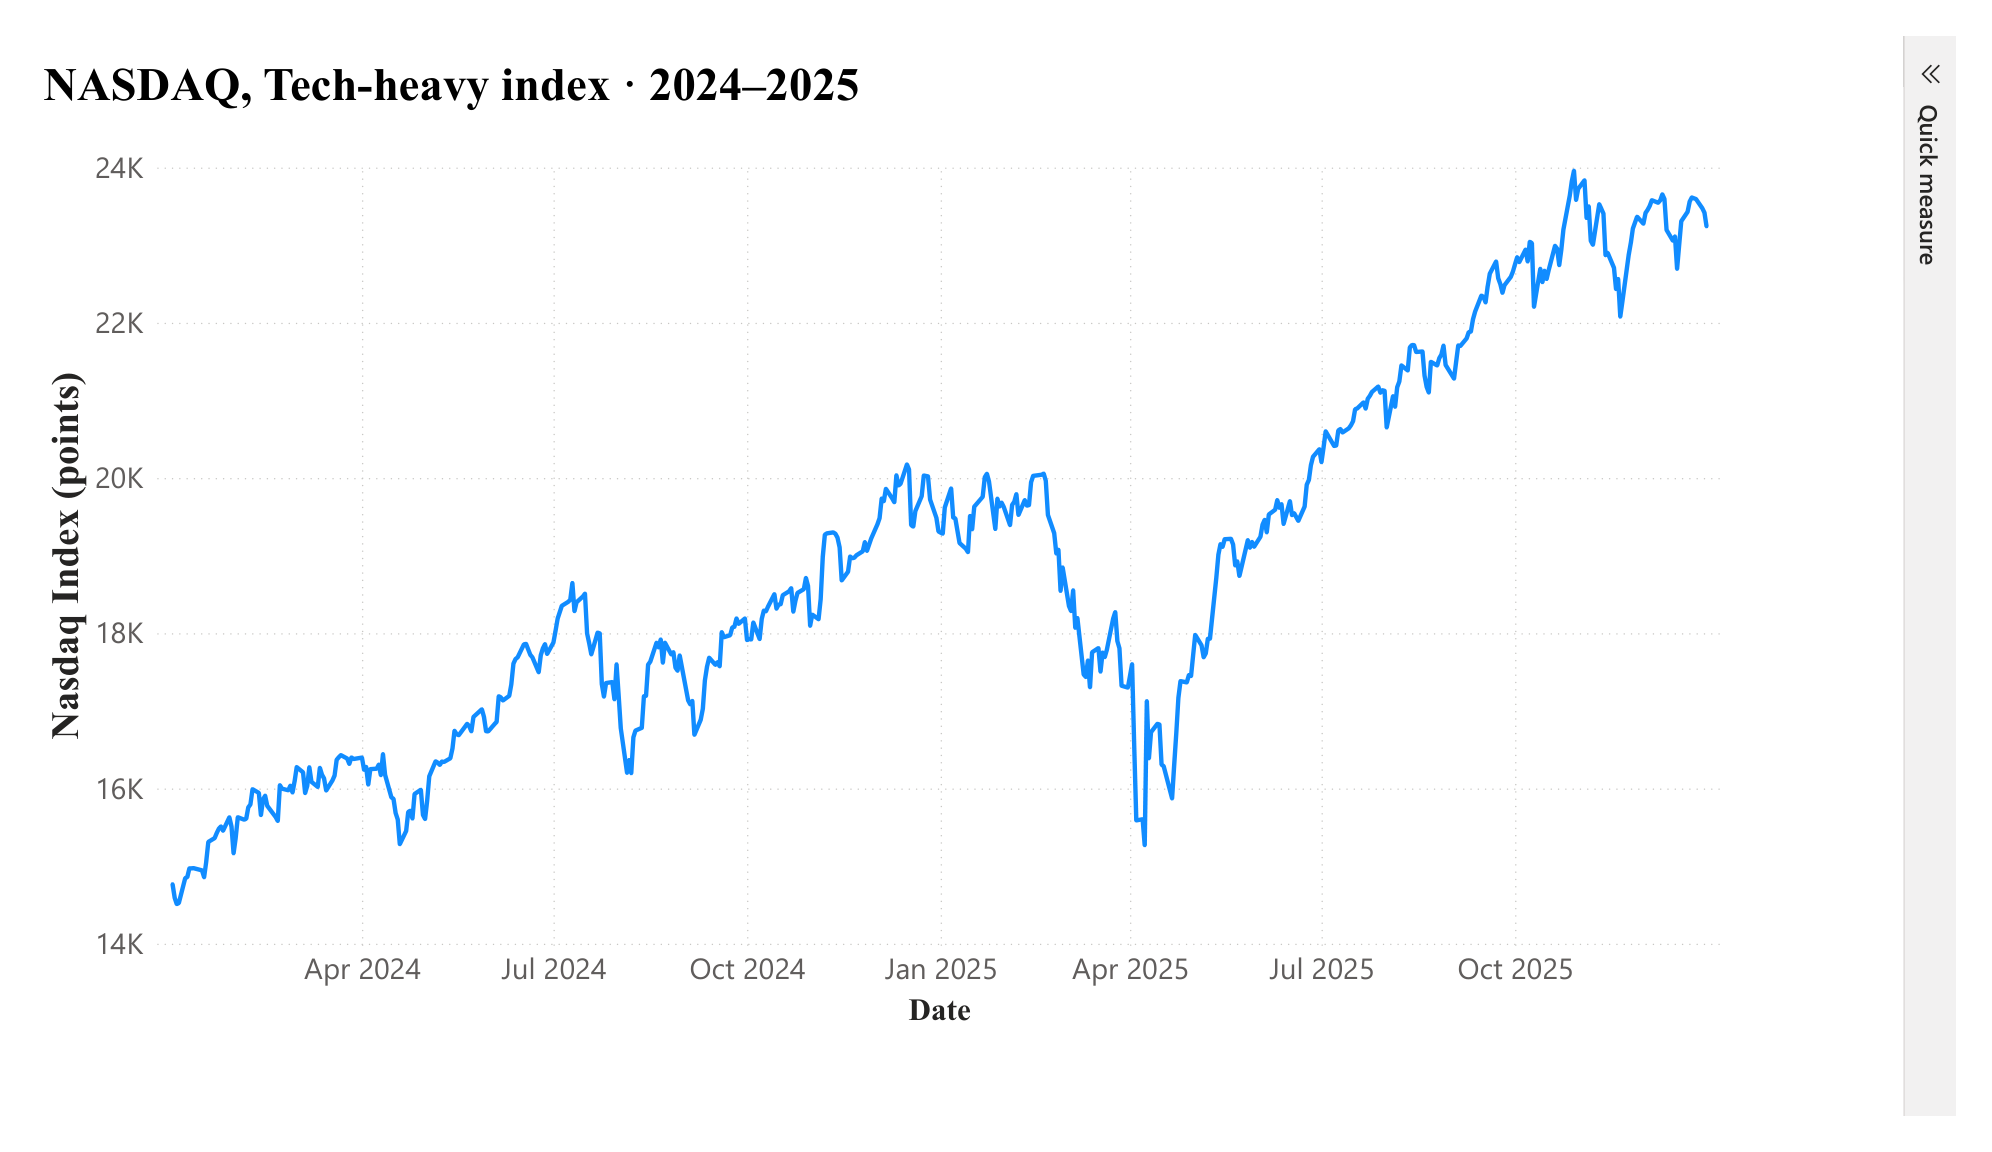

What the dashboard file says about the page in this screenshot:
{"tool":"powerbi","page":{"name":"NDX - Price","canvas":[1280,720],"ordinal":9},"visuals":[{"type":"textbox","box":[0,0,592.9,60],"z":0},{"type":"lineChart","fields":{"Category":["Market_Prices.date_only"],"Y":["Avg(Market_Prices.close)"]},"box":[0,60,1190,614.3],"z":1}]}

Visuals, with their boxes on the page's 1280x720 design canvas (x1, y1, x2, y2). These are canvas units, not pixel positions in the 1992x1152 screenshot, which may show the page scaled, cropped or inside an application window:
textbox: bbox(0, 0, 593, 60)
lineChart - Market_Prices.date_only x Avg(Market_Prices.close): bbox(0, 60, 1190, 674)
